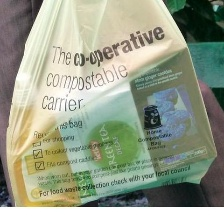plastic_bag: (2, 0, 219, 209)
